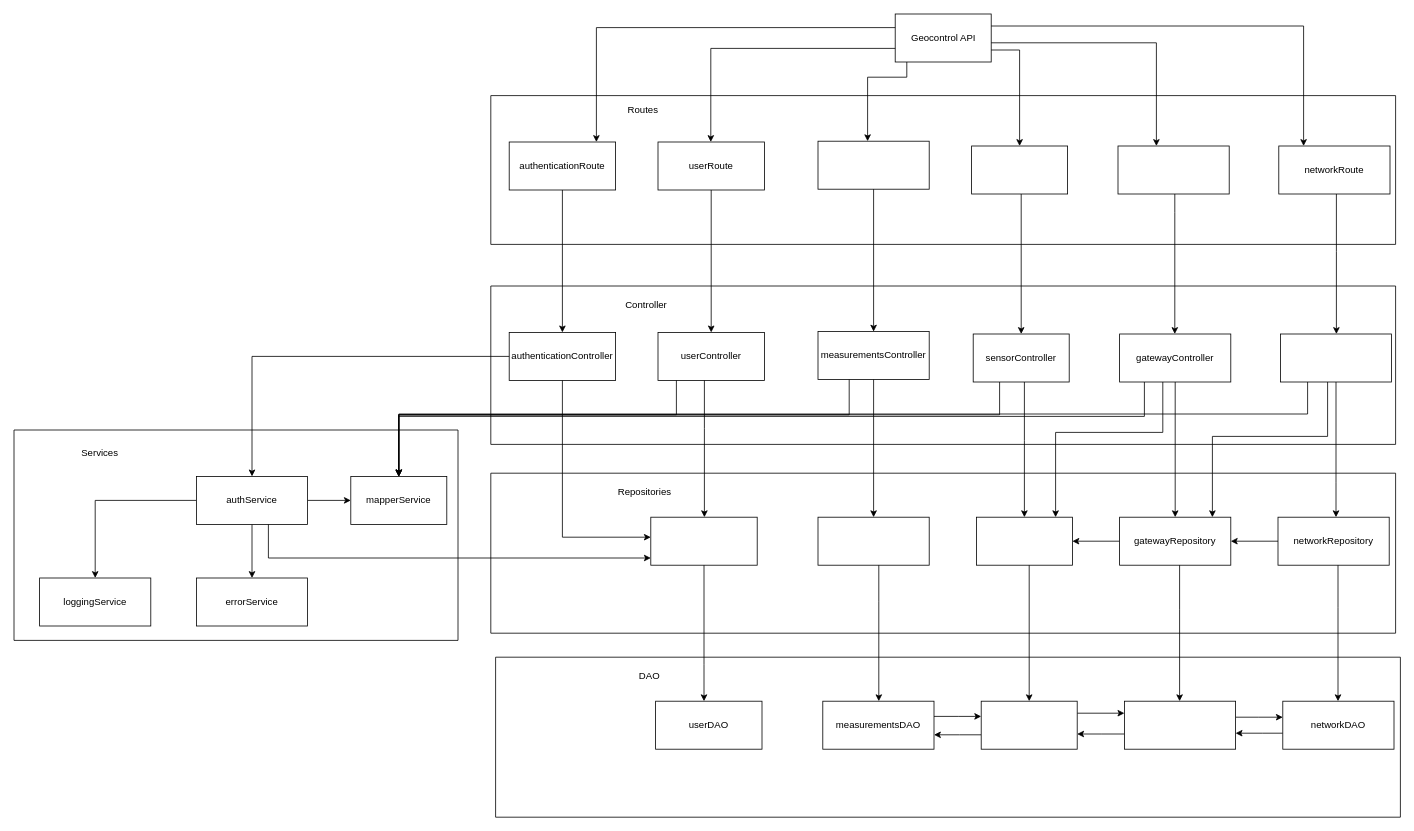
Some shapes in this 1414 by 831 pixel diagram are drawn without their labels. Each missing label, with the box of its shape:
gatewayDAO: (1124, 700, 1236, 749)
gatewayRoute: (1117, 145, 1229, 194)
measurementsRepository: (817, 516, 929, 565)
measurementsRoute: (817, 140, 929, 189)
networkController: (1280, 333, 1392, 382)
sensorDAO: (980, 700, 1077, 749)
sensorRepository: (976, 516, 1072, 565)
sensorRoute: (971, 145, 1068, 194)
userRepository: (650, 516, 757, 565)
